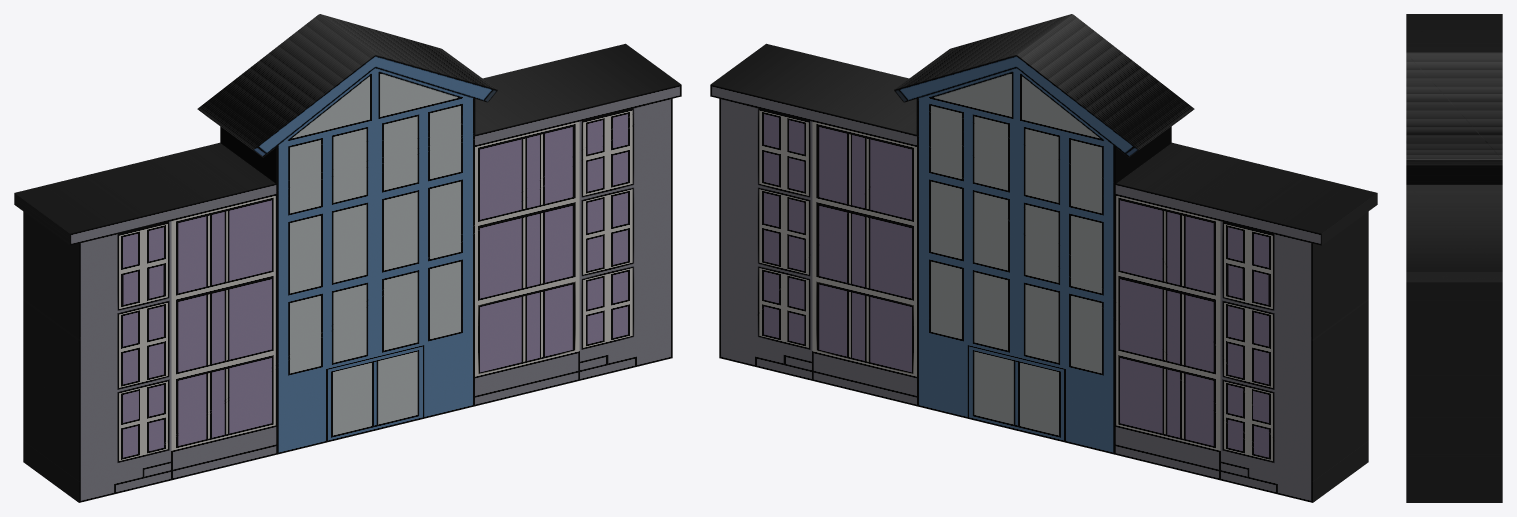
Rendered from building2.fbx.
The picture shows the model from 3 angles, left to right: view 1: azimuth 30°, elevation 25°; view 2: azimuth 150°, elevation 25°; view 3: azimuth 270°, elevation 25°; orthographic projection. The views are drawn at different scales.
Visible parts, largest first — view 1: Building2; view 2: Building2; view 3: Building2.
Boxes of the visible parts, x1,y1,x2,y2 form: Building2: [14, 14, 681, 502]; Building2: [710, 14, 1377, 502]; Building2: [1406, 14, 1502, 502].
Bounding box in the file's own units: 632 × 371 × 100.
